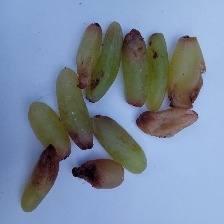grapes: (40, 11, 191, 199)
